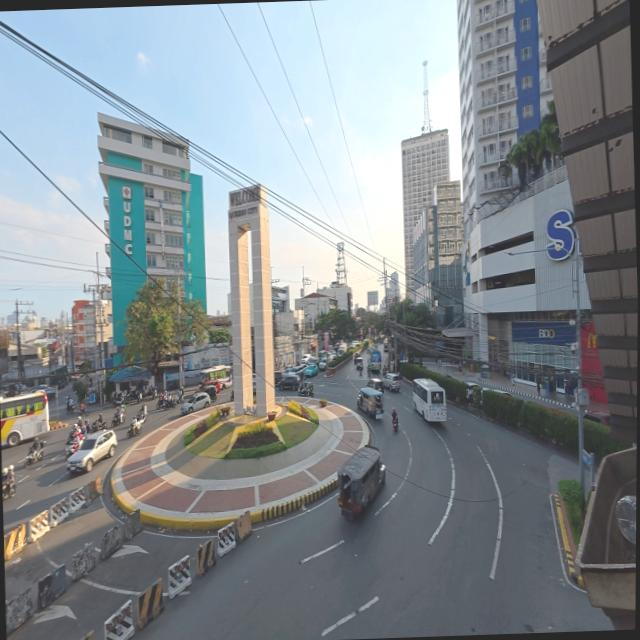Jeepneys: (338, 446, 386, 516), (357, 387, 384, 419)
bus: (0, 391, 49, 446), (413, 379, 446, 421), (199, 366, 232, 389), (367, 347, 381, 374)
car: (67, 430, 117, 473), (181, 393, 210, 414), (277, 373, 300, 391), (196, 384, 217, 401), (584, 412, 610, 425), (383, 374, 401, 391), (466, 382, 480, 402), (201, 380, 222, 393), (367, 377, 384, 393), (305, 364, 318, 377), (291, 365, 306, 376), (273, 371, 282, 386), (301, 353, 312, 364), (318, 359, 327, 370), (336, 346, 345, 356), (308, 358, 319, 365), (318, 351, 326, 359), (355, 355, 362, 364), (330, 350, 337, 359), (230, 390, 234, 401)
motorcycle: (24, 441, 46, 467), (66, 440, 83, 460), (2, 482, 15, 500), (127, 423, 141, 438), (112, 413, 125, 428), (154, 393, 165, 409), (93, 419, 106, 432), (114, 392, 125, 407), (145, 387, 158, 399), (163, 397, 175, 409), (79, 404, 89, 416), (175, 393, 184, 404), (66, 404, 75, 413), (393, 416, 398, 431), (230, 390, 234, 401), (359, 369, 362, 376)
